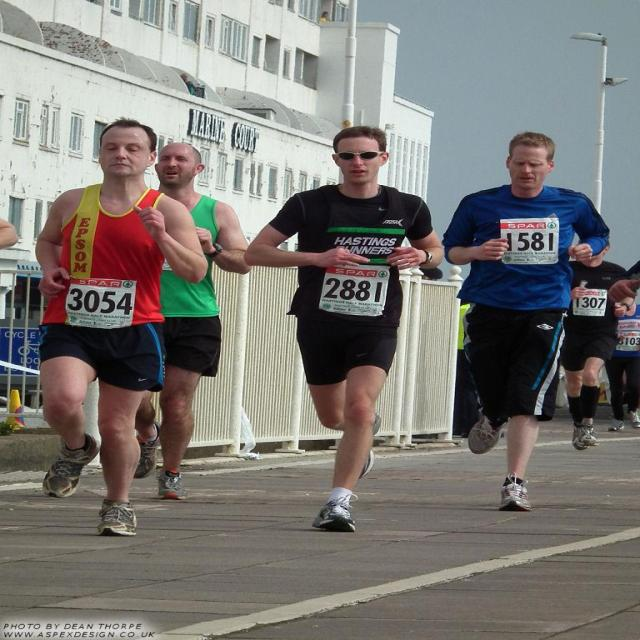Bib: (68, 291, 134, 319), (324, 276, 385, 306), (502, 230, 560, 252), (574, 297, 606, 315)
